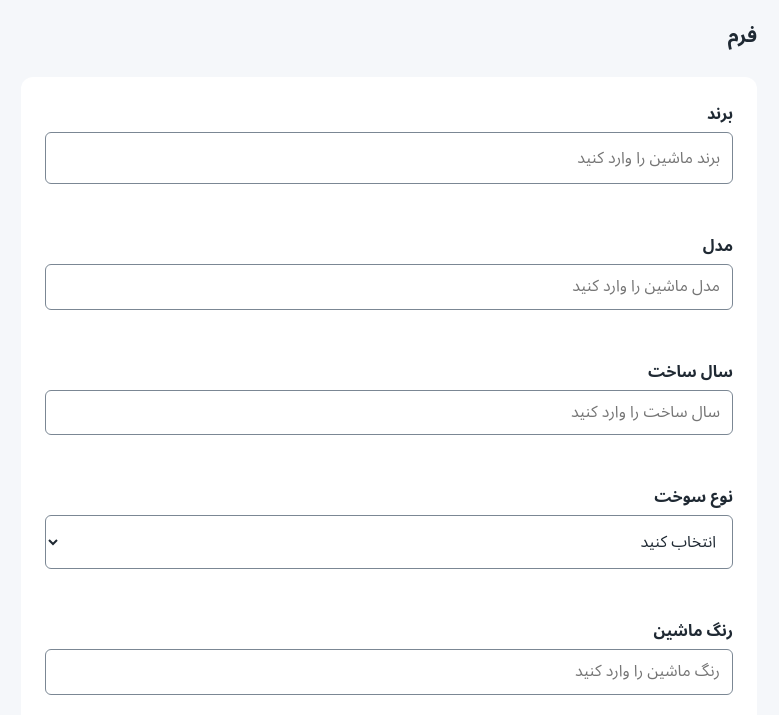
Test: submitting (TC-E09, TC-E12 to TC-E15) › offers Retry after a failed submit, keeps the data, and succeeds when retried
Type "پژو" into the field labelled "برند".
click(389, 158); type("پژو")  # box [45,132,733,184]
(page scrolled)
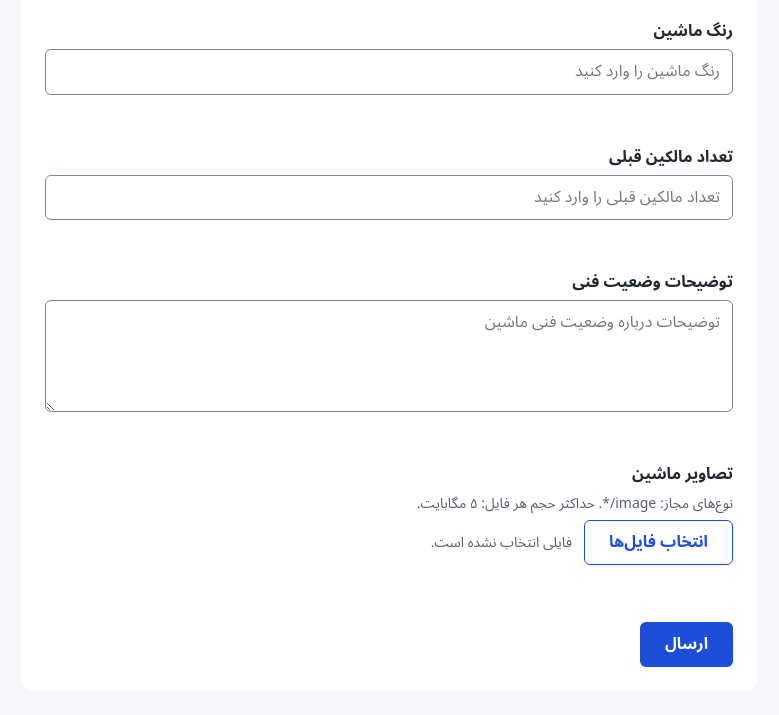
Click the button "ارسال".
click(686, 645)  # box [640,622,733,667]
(page scrolled)
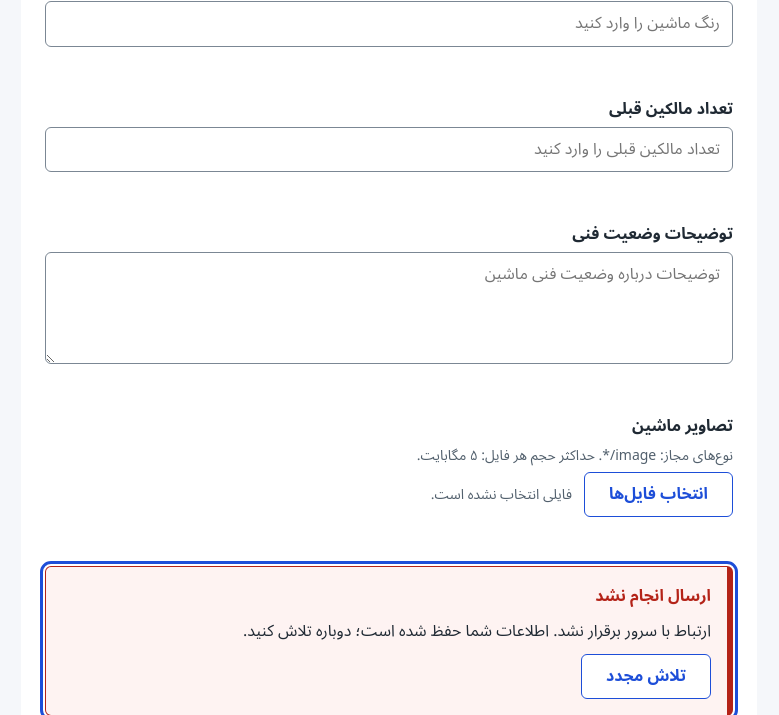
Now the text "ارسال انجام نشد" is shown, box [595,579,711,613]
Click the button "تلاش مجدد".
click(646, 676)  # box [581,654,711,699]
(page scrolled)
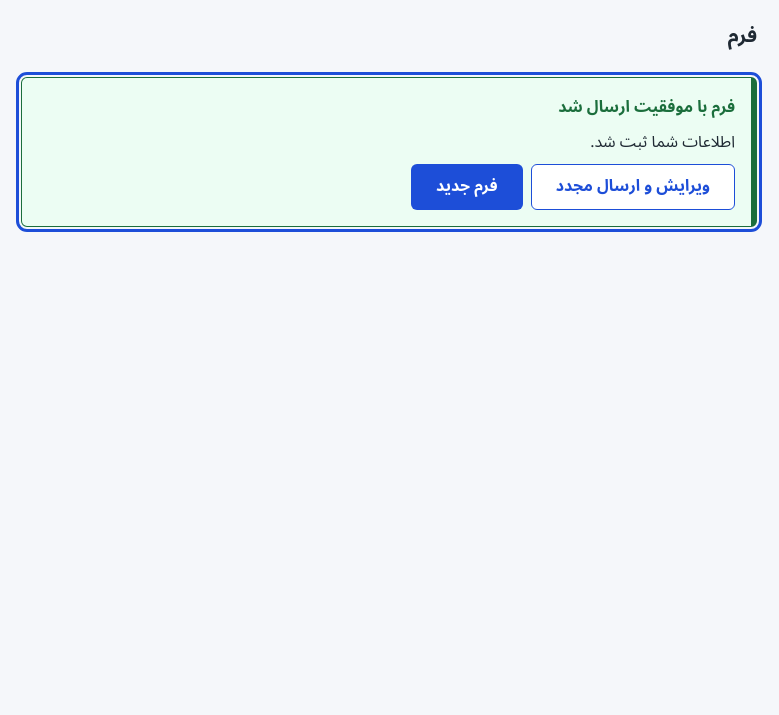
Now the text "فرم با موفقیت ارسال شد" is shown, box [558,90,735,124]
